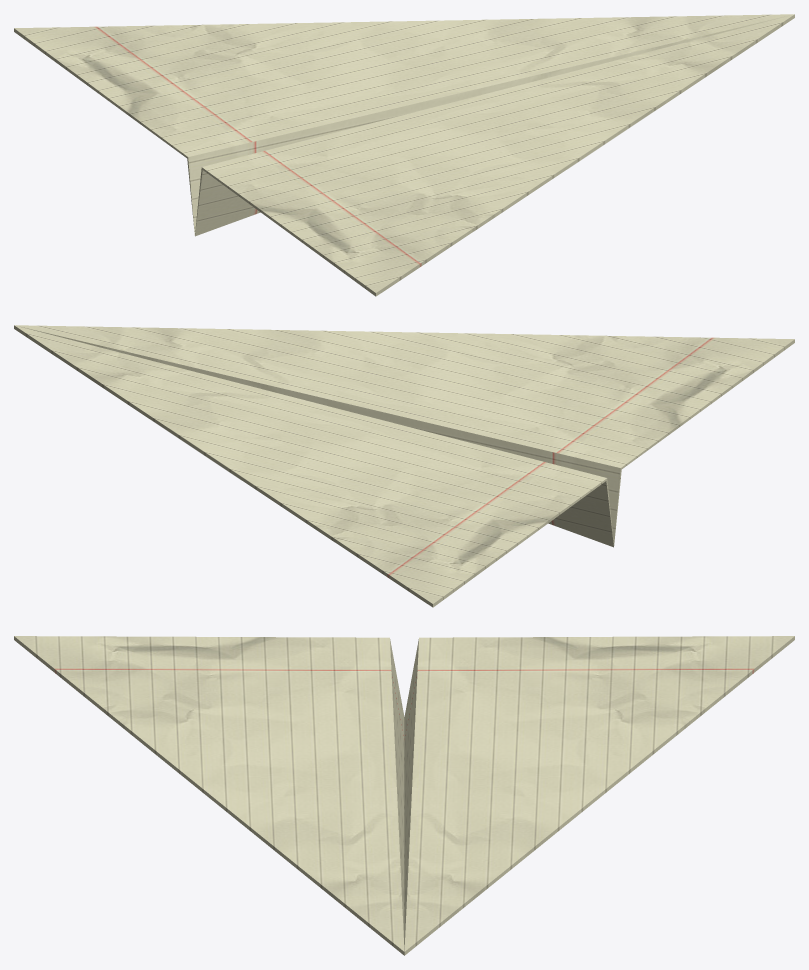
Rendered from PaperPlane.fbx.
3 views of the same model, one above another, from view 1: azimuth 30°, elevation 25°; view 2: azimuth 150°, elevation 25°; view 3: azimuth 270°, elevation 25° (orthographic). The views are drawn at different scales.
Parts seen in each view (by area): view 1: PaperPlane; view 2: PaperPlane; view 3: PaperPlane.
Boxes of the visible parts, box(x1,y1,x2,y2) form: PaperPlane: box(14, 14, 794, 296); PaperPlane: box(14, 325, 794, 607); PaperPlane: box(14, 636, 794, 955).
Size of the model in its own units: 10 by 1.21 by 10.45.
Materials: 1 (1 with a texture image).
